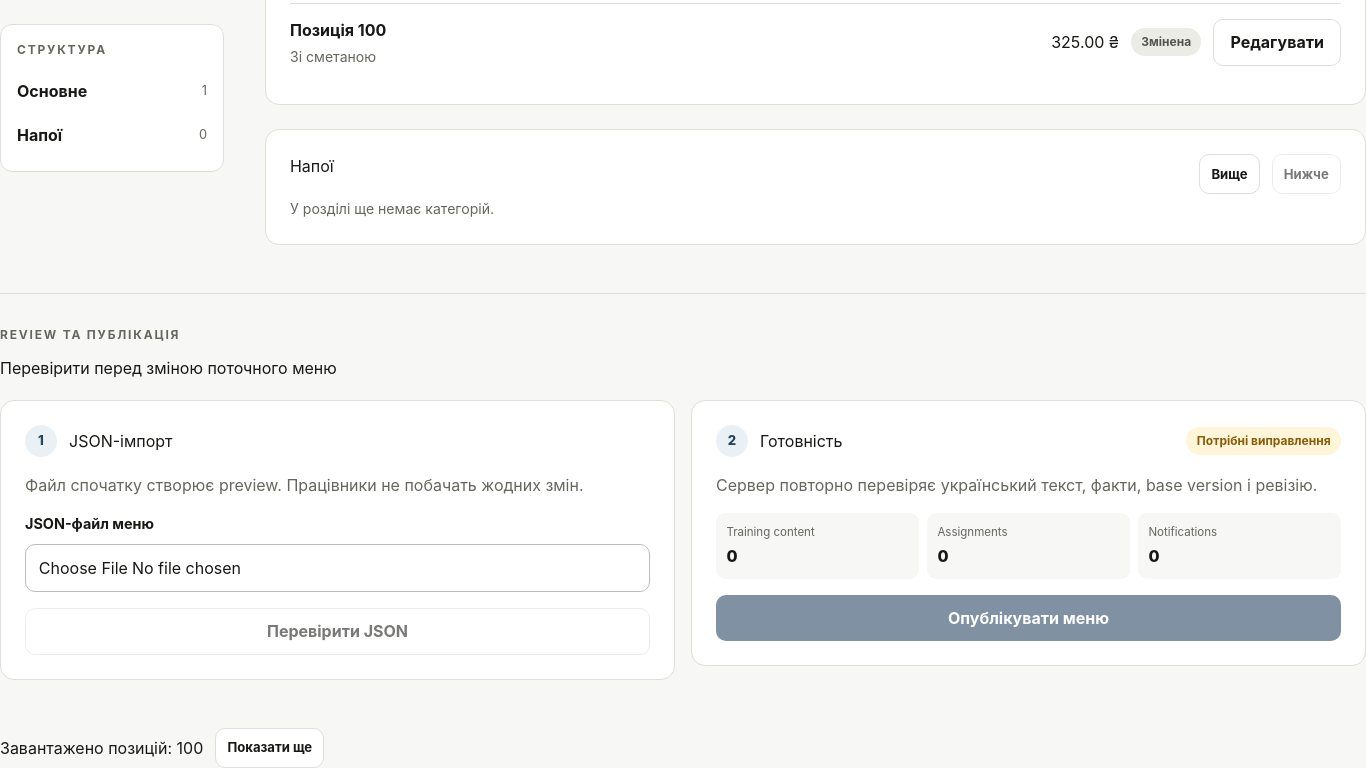
Scenario: Admin Menu workspace › loads all 308 items through opaque cursors without duplicating a repeated item
(page scrolled)
Expected: the text "Позиція 100" is shown, [290, 20, 386, 40]
Click the button "Показати ще" at (270, 748), box [215, 728, 324, 767]
(page scrolled)
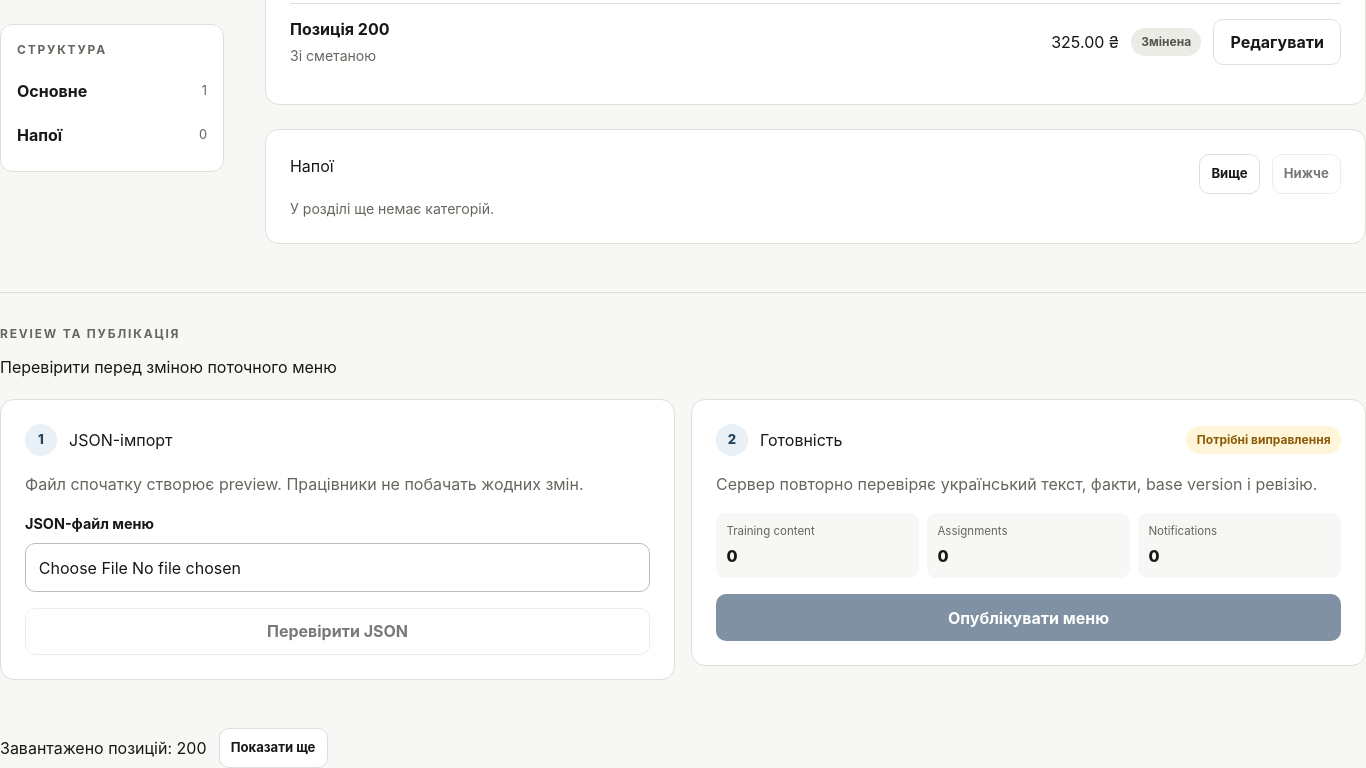
Click the button "Показати ще" at (273, 748), box [218, 728, 328, 767]
(page scrolled)
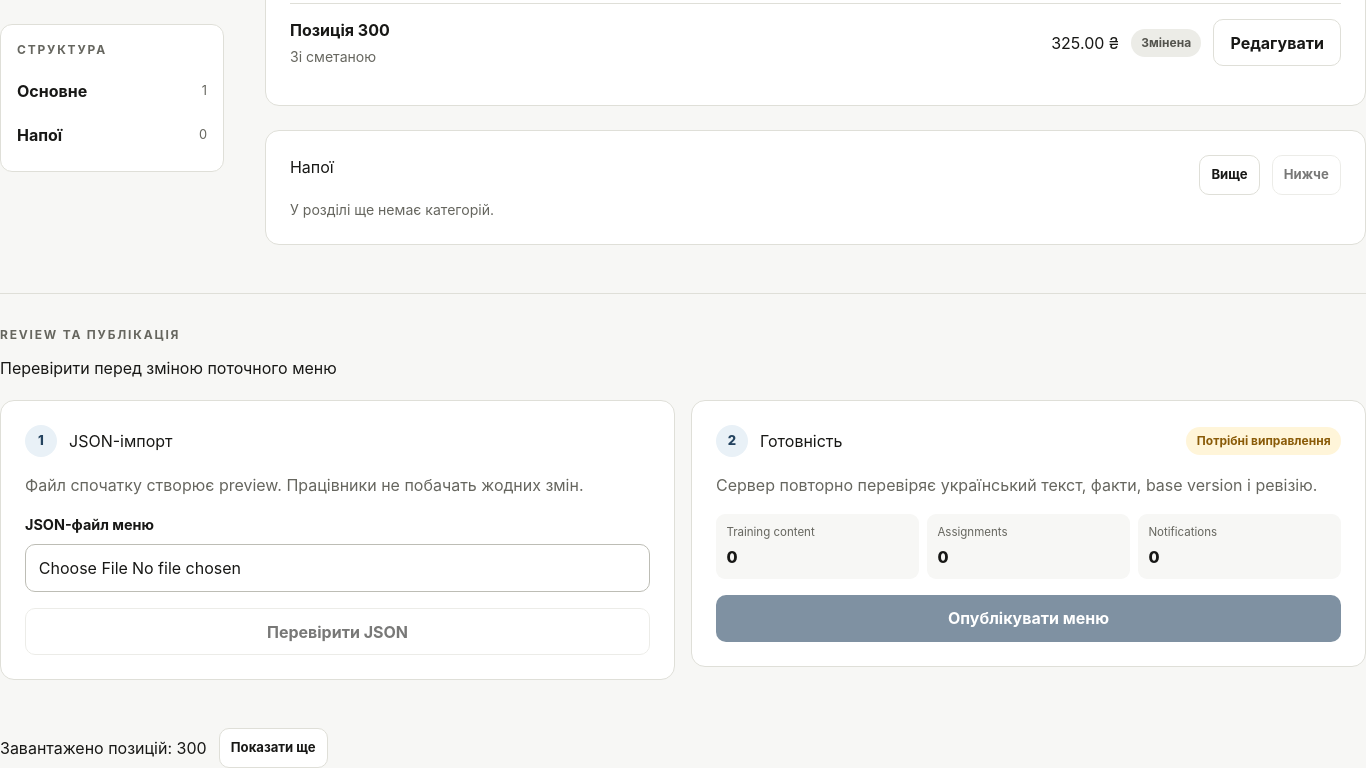
Click the button "Показати ще" at (273, 748), box [219, 728, 328, 767]
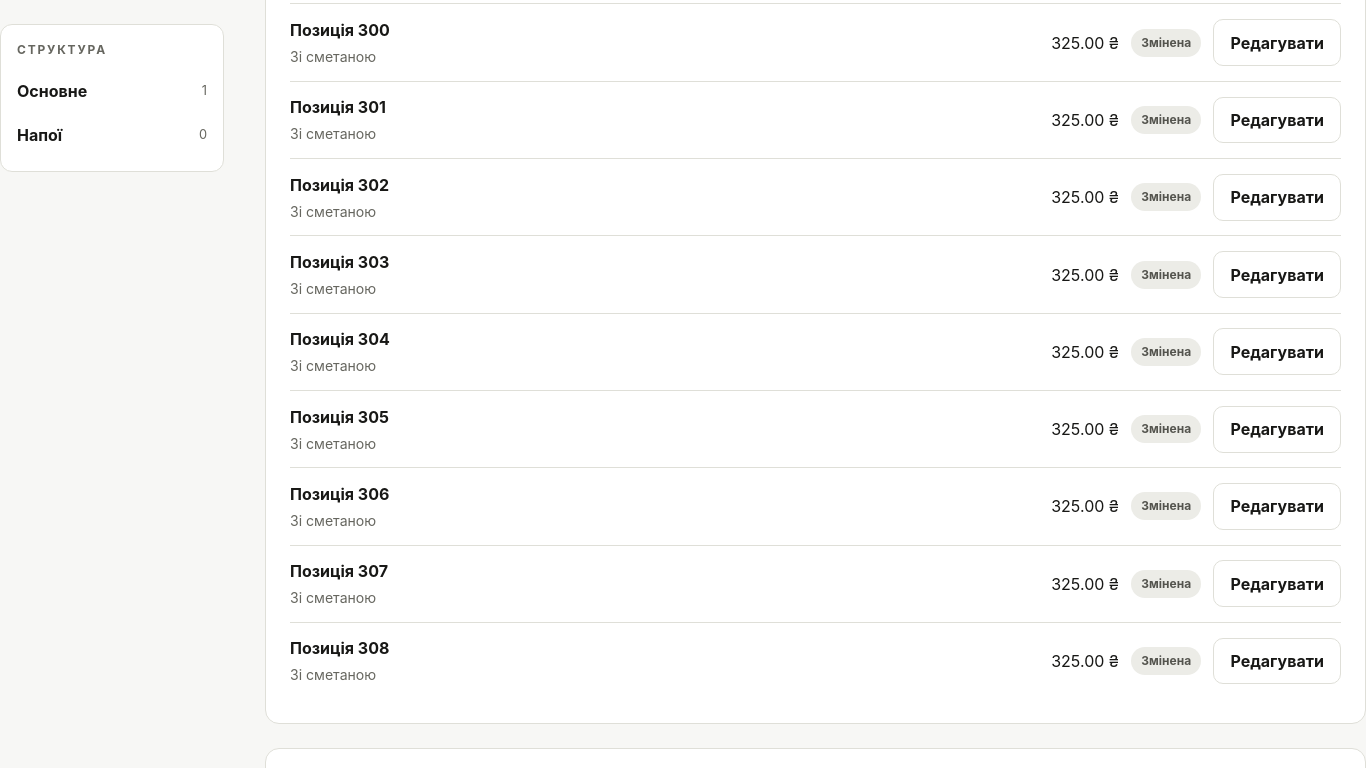
Now the button "Показати ще" is gone
